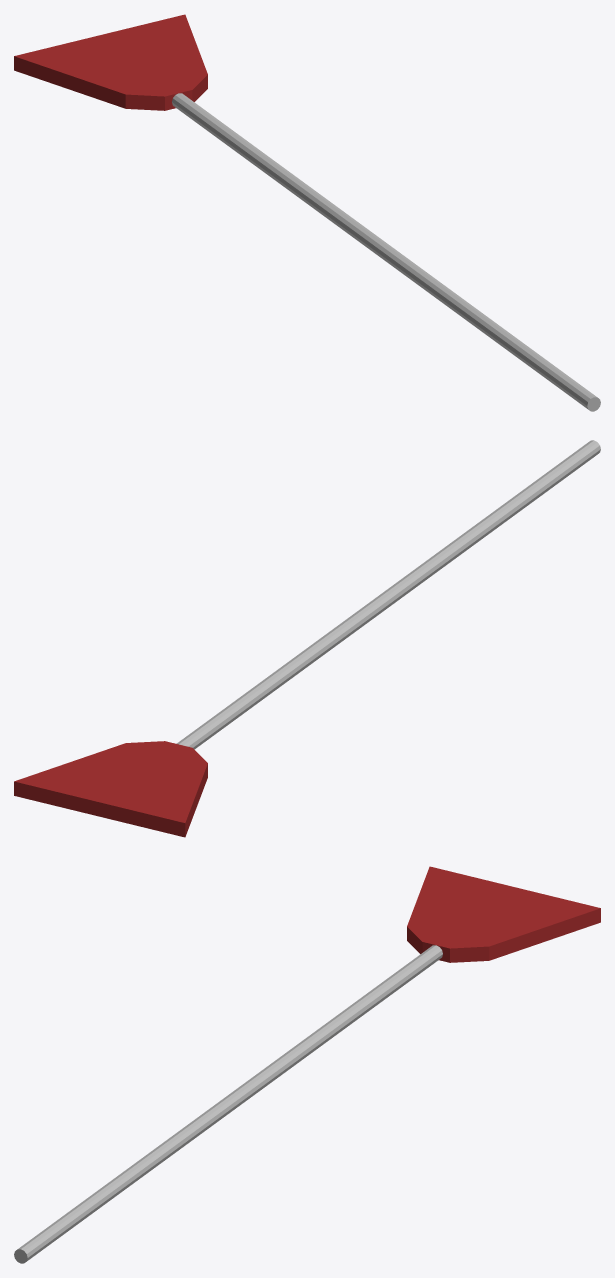
Rendered from nil_link_mesh.dae.
3 views of the same model, one above another, from view 1: azimuth 30°, elevation 25°; view 2: azimuth 150°, elevation 25°; view 3: azimuth 330°, elevation 25° (orthographic).
Parts seen in each view (by area): view 1: nil_link (×2); view 2: nil_link (×2); view 3: nil_link (×2).
Boxes of the visible parts, <box> form: nil_link (×2): <box>14,14,600,411</box>; nil_link (×2): <box>14,440,600,837</box>; nil_link (×2): <box>14,866,600,1263</box>.
Bounding box in the file's own units: 0.25 × 0.02 × 1.25.
